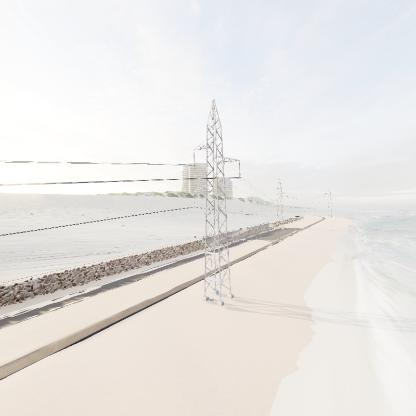tower: (187, 95, 244, 307)
